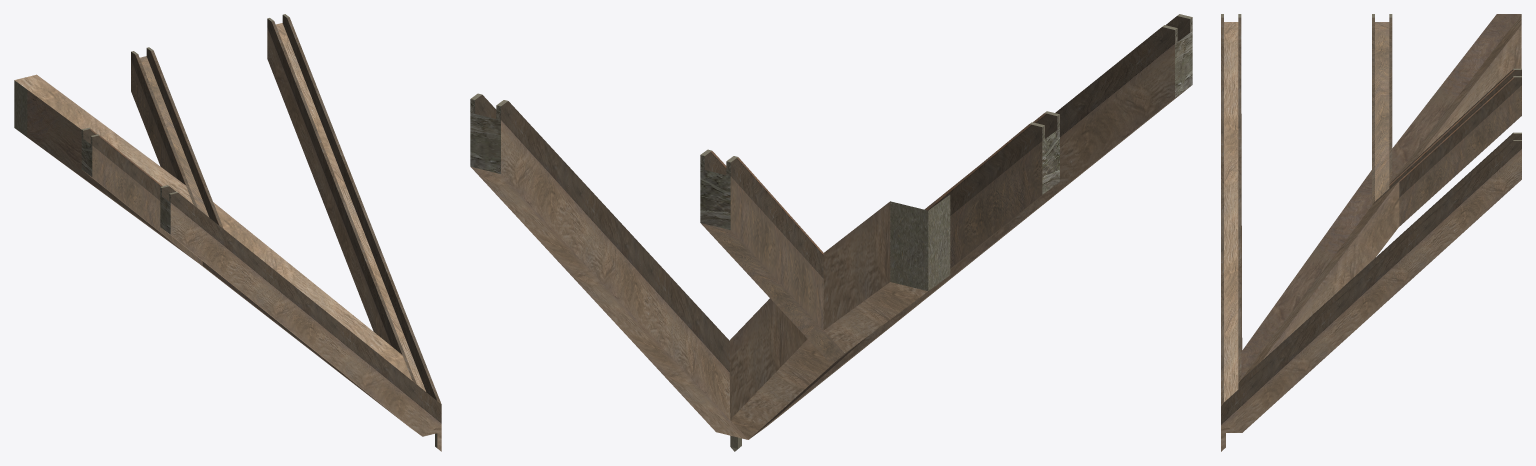
The model's file is RafterCornerInsideB.fbx.
The picture shows the model from 3 angles, left to right: view 1: azimuth 30°, elevation 25°; view 2: azimuth 150°, elevation 25°; view 3: azimuth 270°, elevation 25°; orthographic projection. The views are drawn at different scales.
Visible parts, largest first — view 1: RafterCornerInsideB; view 2: RafterCornerInsideB; view 3: RafterCornerInsideB.
Boxes of the visible parts, left/top/right/bottom form: RafterCornerInsideB: left=14, top=14, right=441, bottom=451; RafterCornerInsideB: left=470, top=14, right=1192, bottom=451; RafterCornerInsideB: left=1221, top=14, right=1521, bottom=451.
Size of the model in its own units: 403 by 459 by 402.
